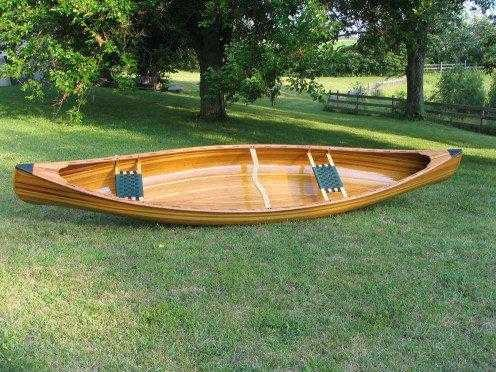kayak: (13, 143, 467, 226)
